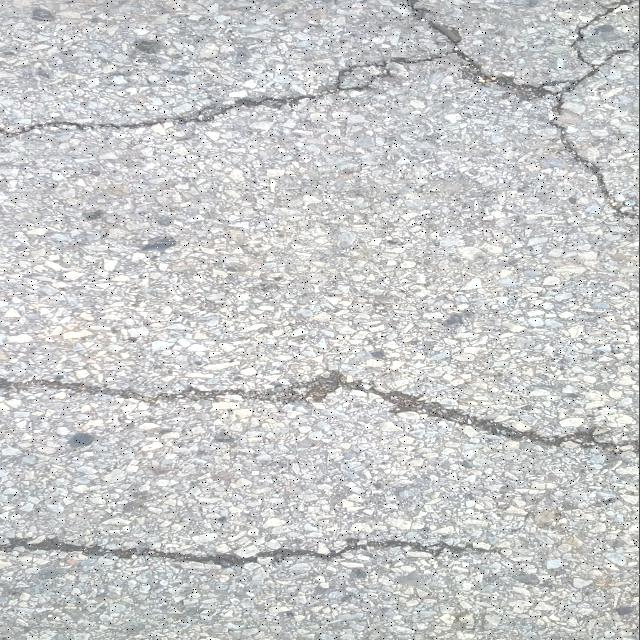Crack: (0, 0, 640, 222), (0, 371, 640, 454), (0, 534, 509, 569)
